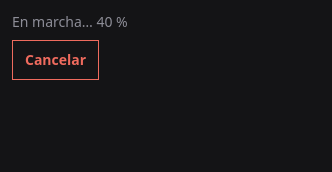
Test: BotonAccion › limpia el error de cancelación cuando el sondeo ve el estado final
The image size is (332, 172).
Later steps or results of the test are not shown.
What coordinates should you click on to do the following:
click the button with aria-label "Cancelar el trabajo"
I would click on:
 (56, 60)
Its box is 12,40 -> 99,80.
Wait 2000 ms
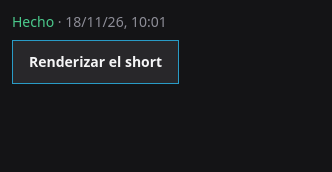
Check: the text "Hecho" is shown, box 12,12 -> 54,31
